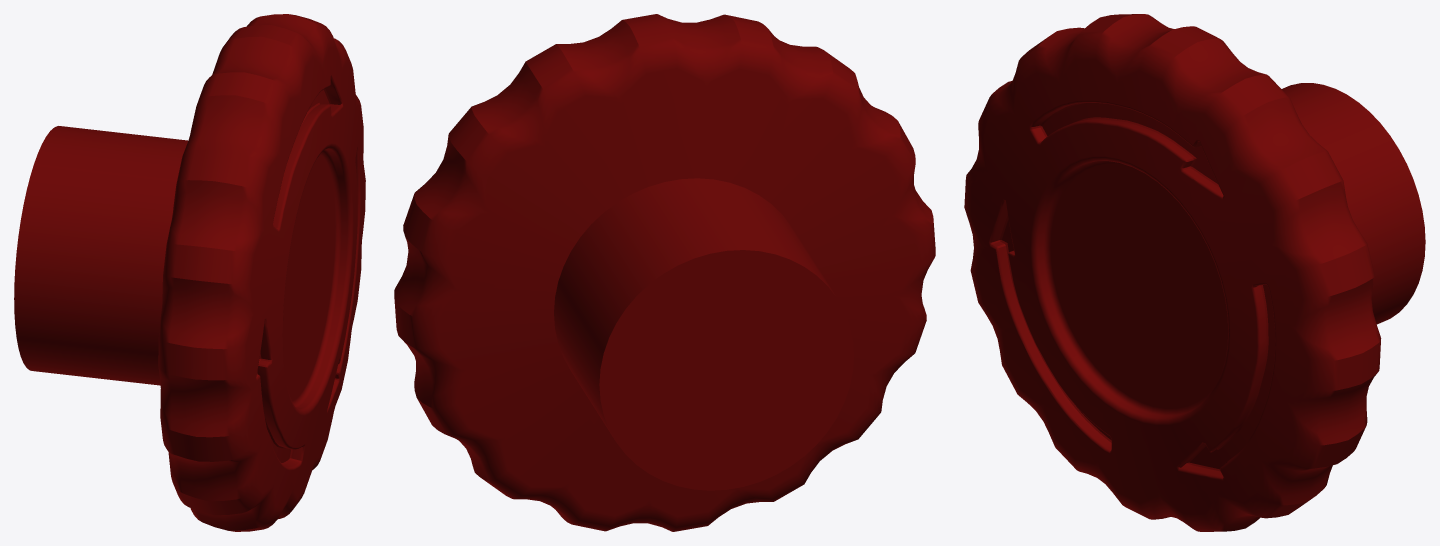
The model's file is Button_EmergencyStop 01.fbx.
3 renders of one model, left to right at view 1: azimuth 30°, elevation 25°; view 2: azimuth 150°, elevation 25°; view 3: azimuth 270°, elevation 25°, orthographic. The views are drawn at different scales.
Parts seen in each view (by area): view 1: KUKA_KMP1500_001; view 2: KUKA_KMP1500_001; view 3: KUKA_KMP1500_001.
Part boxes in pixels (box(x1,y1,x2,y2)): KUKA_KMP1500_001: box(14, 14, 365, 531); KUKA_KMP1500_001: box(394, 14, 935, 531); KUKA_KMP1500_001: box(964, 14, 1425, 531).
Size of the model in its own units: 2.68 by 3.12 by 2.68.
